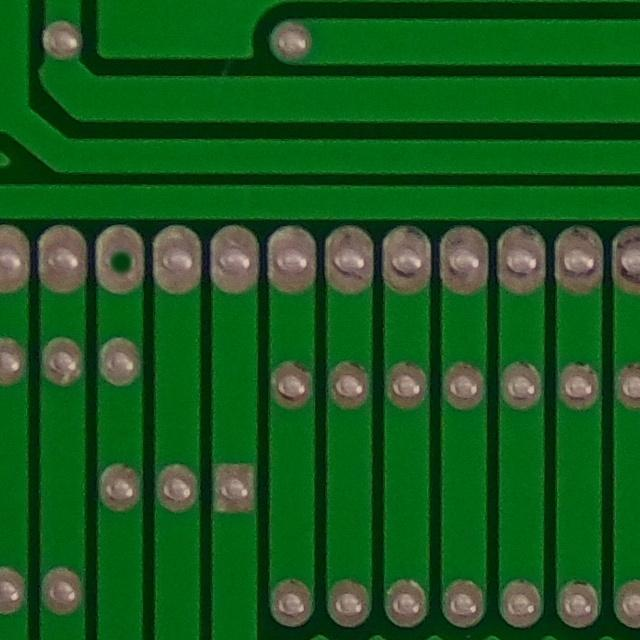missing_hole: (95, 228, 150, 301)
